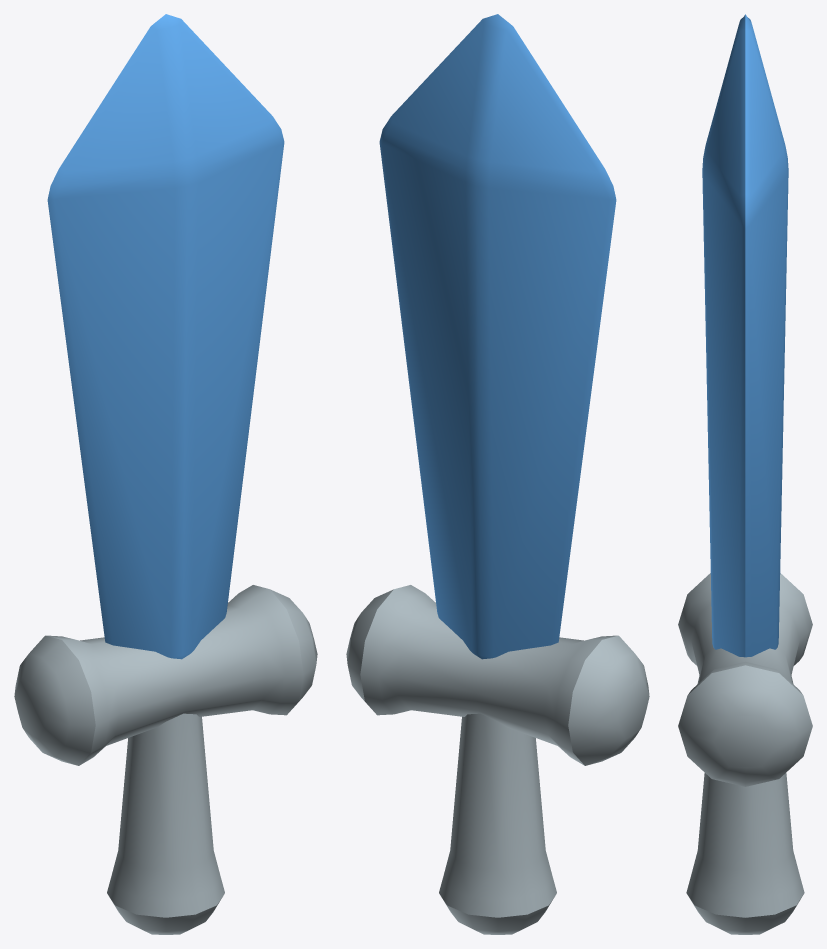
File: sword_teamBlue-col.glb
The picture shows the model from 3 angles, left to right: view 1: azimuth 30°, elevation 25°; view 2: azimuth 150°, elevation 25°; view 3: azimuth 270°, elevation 25°; orthographic projection.
Visible parts, largest first — view 1: sword_teamBlue-col; view 2: sword_teamBlue-col; view 3: sword_teamBlue-col.
Boxes of the visible parts, x1,y1,x2,y2 form: sword_teamBlue-col: [14, 14, 317, 934]; sword_teamBlue-col: [346, 14, 649, 934]; sword_teamBlue-col: [678, 14, 812, 934].
Bounding box in the file's own units: 0.4269 × 1.37 × 0.1839.
